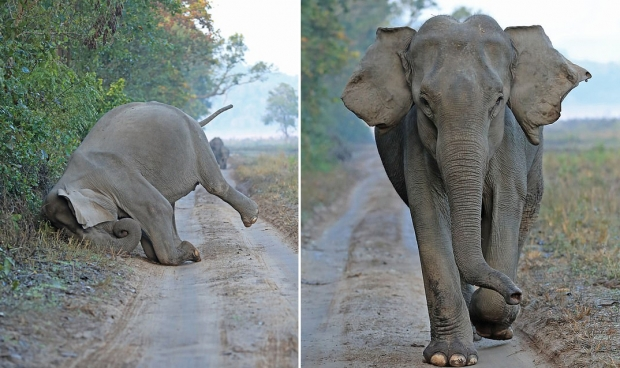Elephant: (334, 10, 595, 365)
